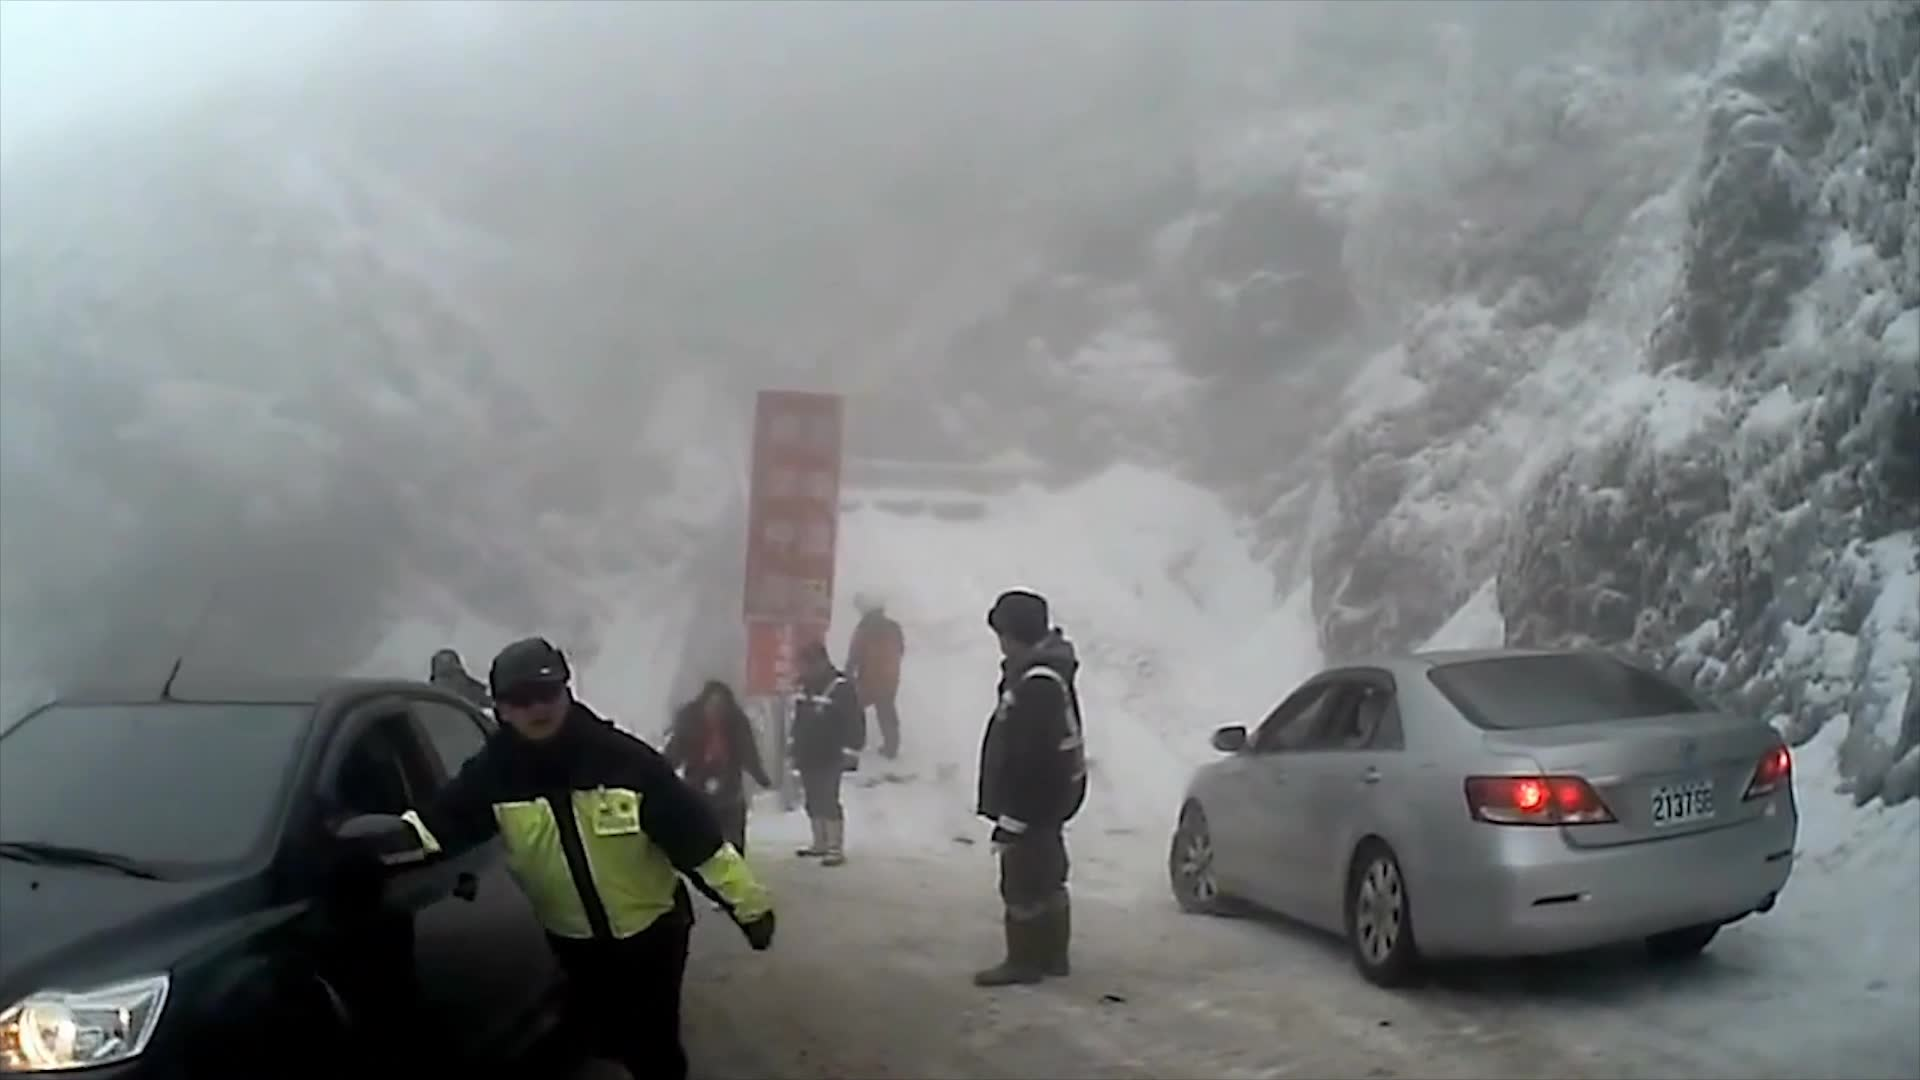pedestrian: (359, 639, 771, 1080), (956, 585, 1088, 984), (660, 671, 779, 914), (790, 641, 863, 864), (836, 581, 905, 756)
vehicle: (0, 672, 623, 1080), (1160, 639, 1797, 984)
